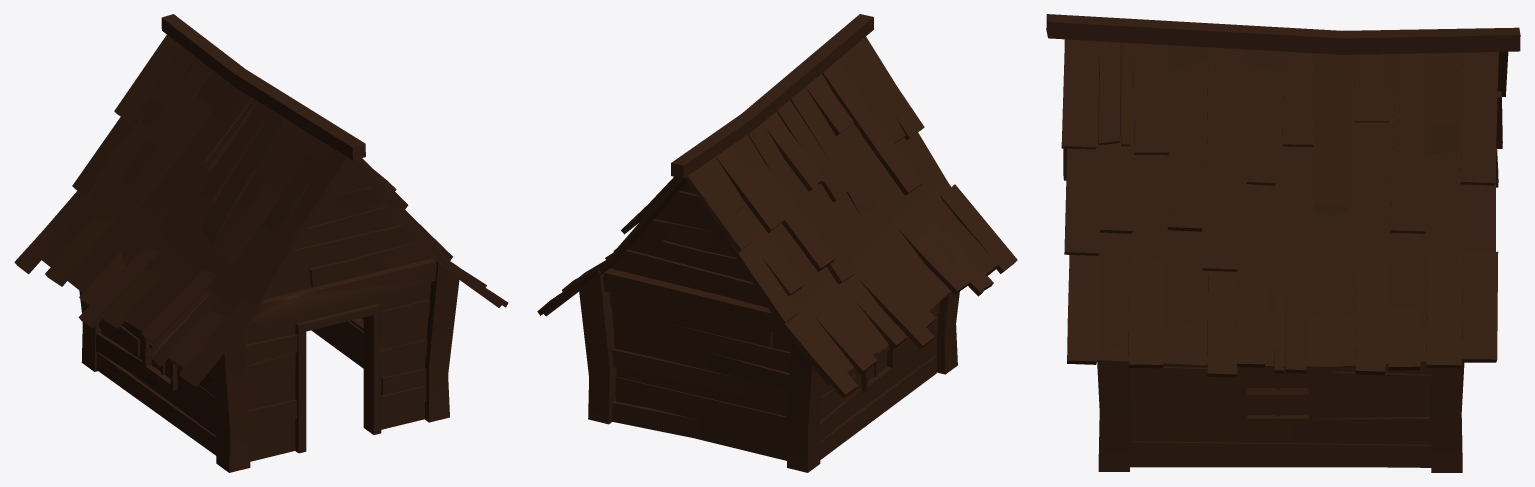
File: SM_cabin_A01.fbx
The picture shows the model from 3 angles, left to right: view 1: azimuth 30°, elevation 25°; view 2: azimuth 150°, elevation 25°; view 3: azimuth 270°, elevation 25°; orthographic projection. The views are drawn at different scales.
Parts seen in each view (by area): view 1: SM_cabin_A01; view 2: SM_cabin_A01; view 3: SM_cabin_A01.
Part boxes in pixels (<box>): SM_cabin_A01: <box>14,14,508,472</box>; SM_cabin_A01: <box>537,14,1017,472</box>; SM_cabin_A01: <box>1046,14,1520,472</box>.
Size of the model in its own units: 617 by 556 by 617.
